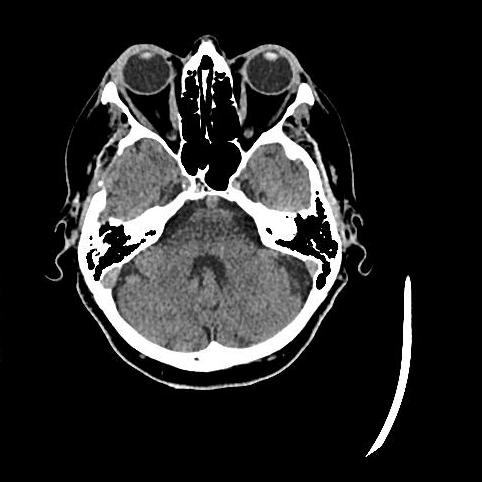Normal_Brain: (51, 29, 366, 388)
